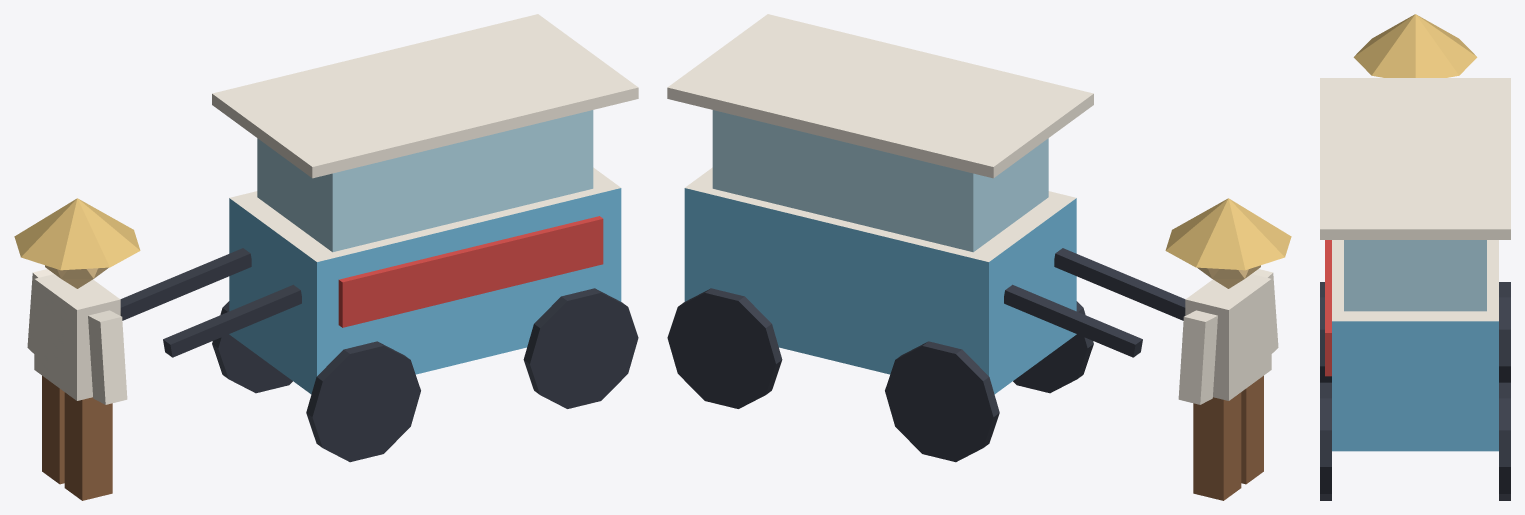
Rendered from people_vendor.glb.
3 views of the same model, side by side, from view 1: azimuth 30°, elevation 25°; view 2: azimuth 150°, elevation 25°; view 3: azimuth 270°, elevation 25° (orthographic). The views are drawn at different scales.
Parts seen in each view (by area): view 1: people_vendor; view 2: people_vendor; view 3: people_vendor.
Part boxes in pixels (x1,y1,x2,y2): people_vendor: (14, 14, 638, 500); people_vendor: (667, 14, 1291, 500); people_vendor: (1320, 14, 1510, 500).
Size of the model in its own units: 0.261 by 0.135 by 0.08.
